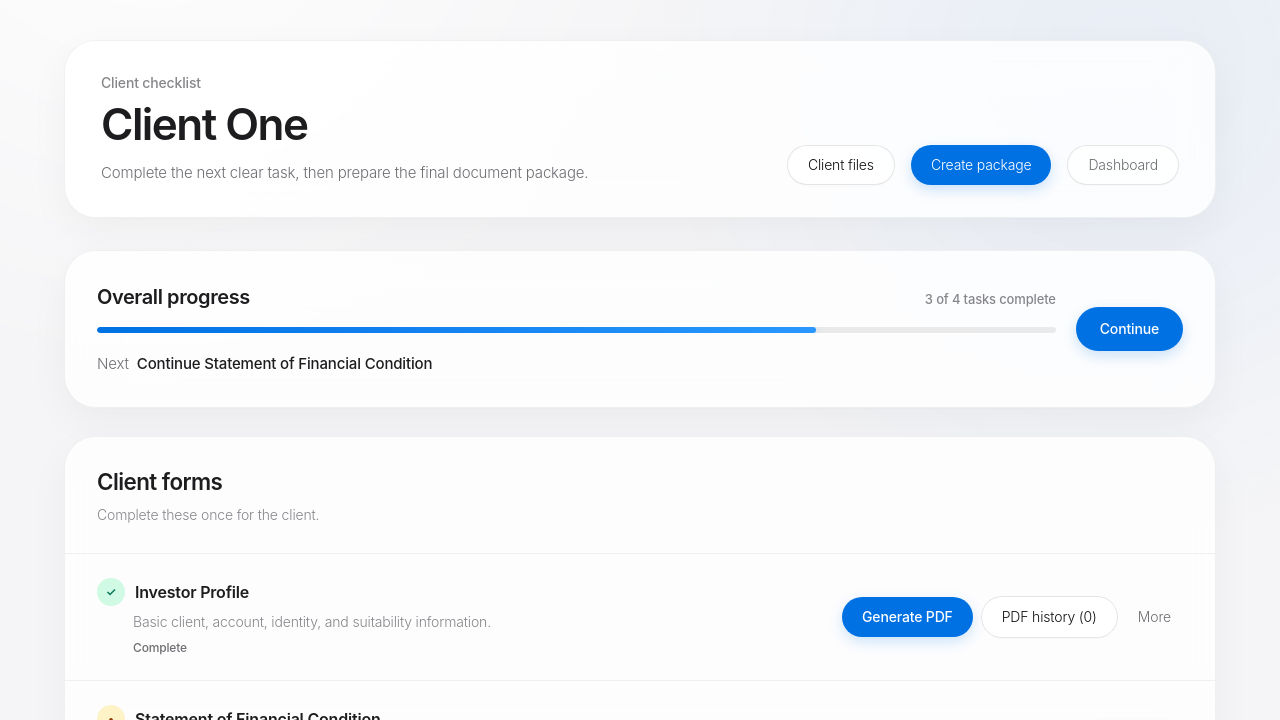
Test case: Guided client workspace › shows full form names, global forms first, and investments as document pairs
Check: the heading "Client forms" is shown, box [97, 468, 222, 495]
Check: the text "Client checklist" is shown, box [101, 74, 201, 91]
Click the button "PDF history (0)" at (1049, 617), box [981, 596, 1118, 638]
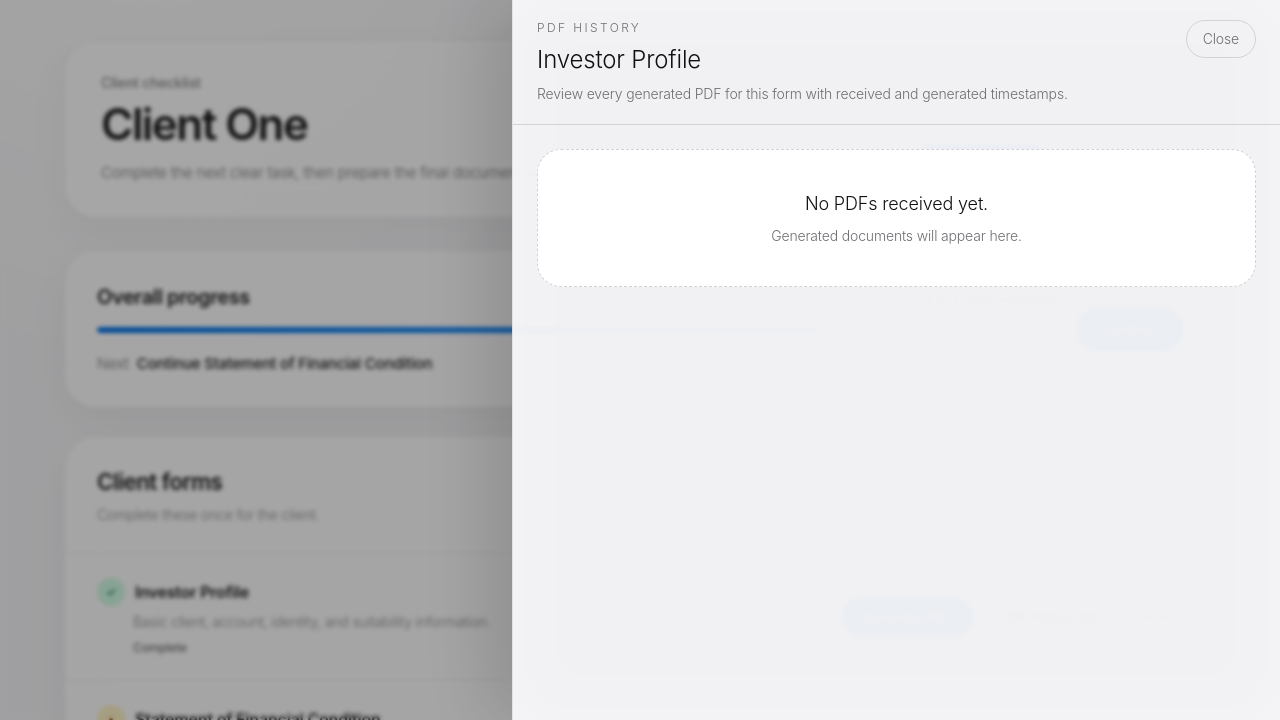
Check: the dialog "Investor Profile" is shown, box [512, 0, 1279, 719]
Check: the text "No PDFs received yet." is shown, box [805, 193, 988, 214]
Click the button "Close" at (1221, 39), box [1186, 20, 1256, 58]
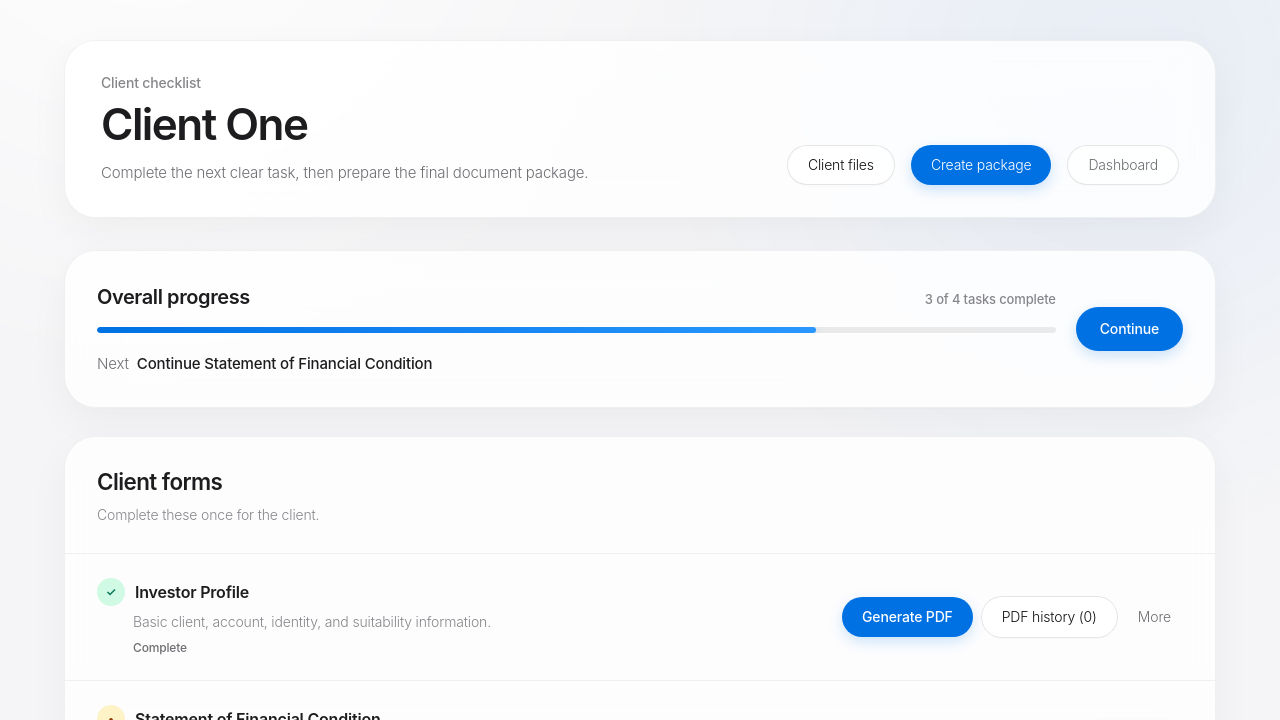
Click the button "Client files" at (841, 164), box [787, 144, 895, 184]
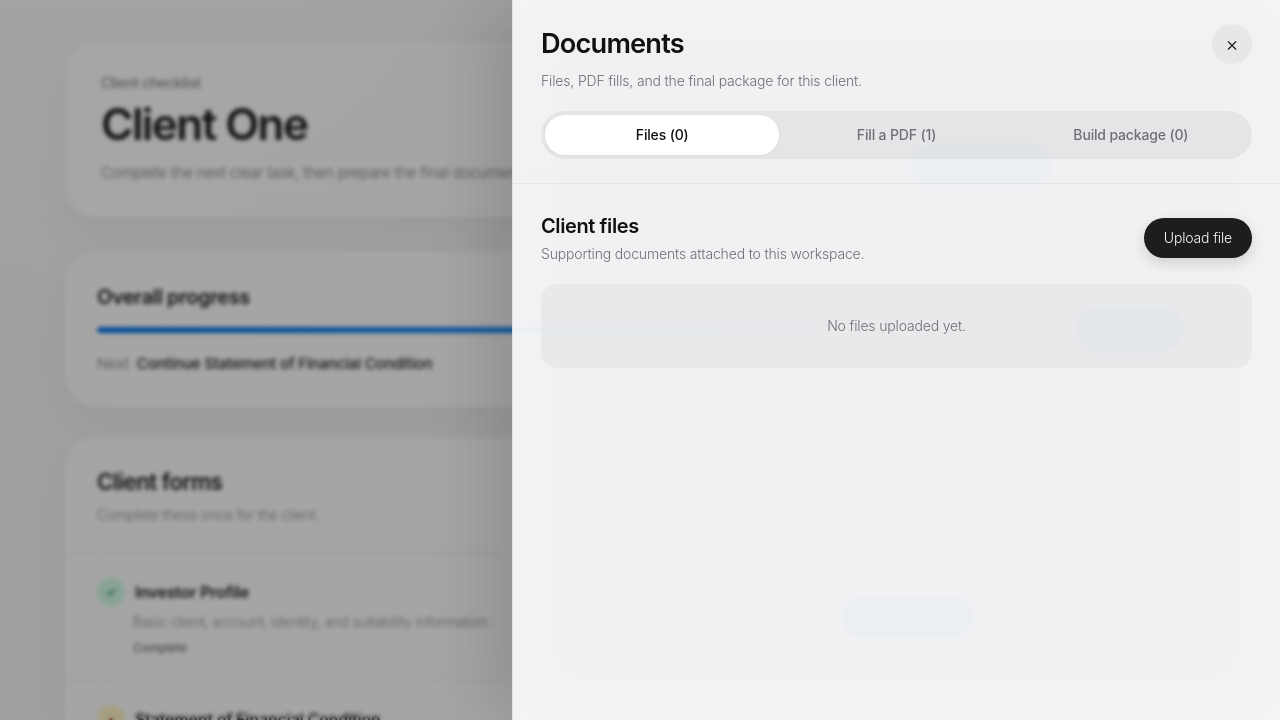
Click the button "Fill a PDF (1)" at (896, 135), box [779, 115, 1014, 155]
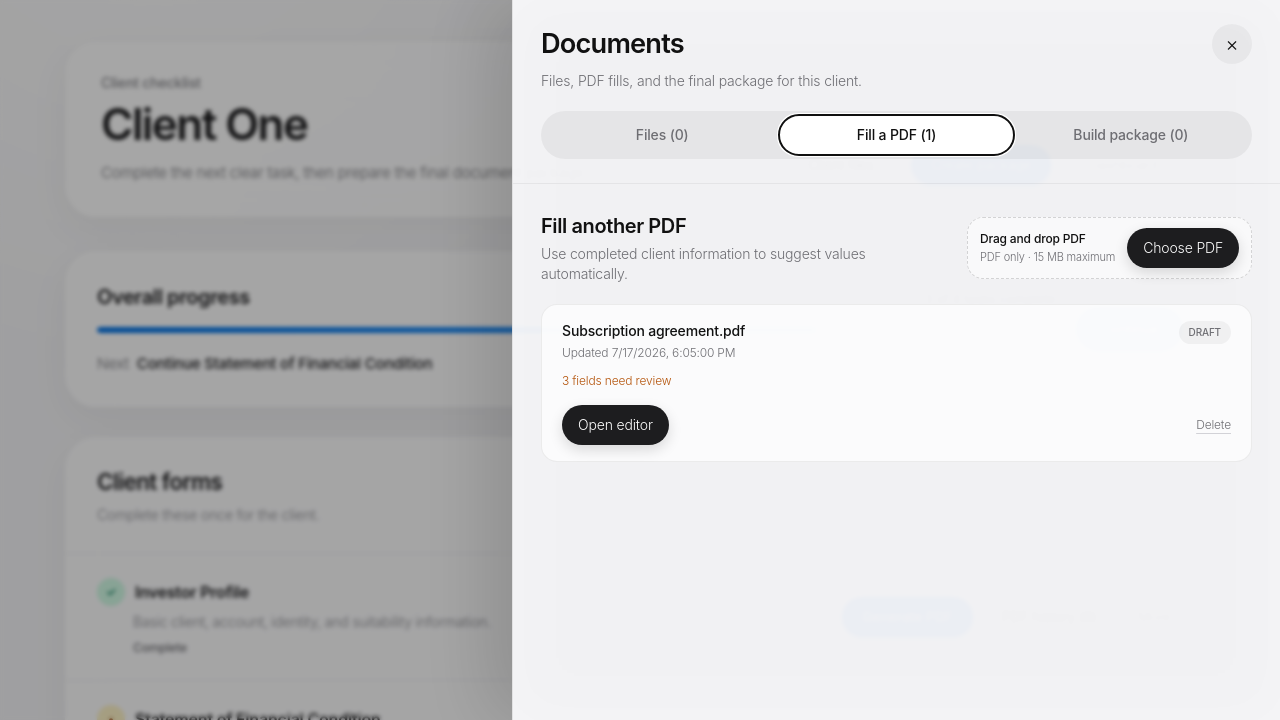
Check: the element with test id "pdf-fill-dropzone" shows "Drag and drop PDF", box [980, 230, 1086, 246]
Check: the button "Choose PDF" is shown, box [1127, 228, 1239, 268]
Check: the button with aria-label "Open editor: Subscription agreement.pdf" is shown, box [562, 405, 669, 445]
